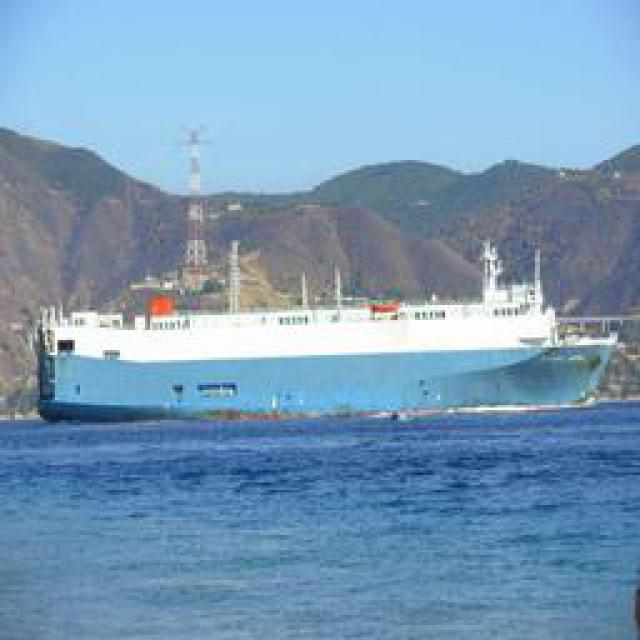Ship: (34, 281, 624, 429)
